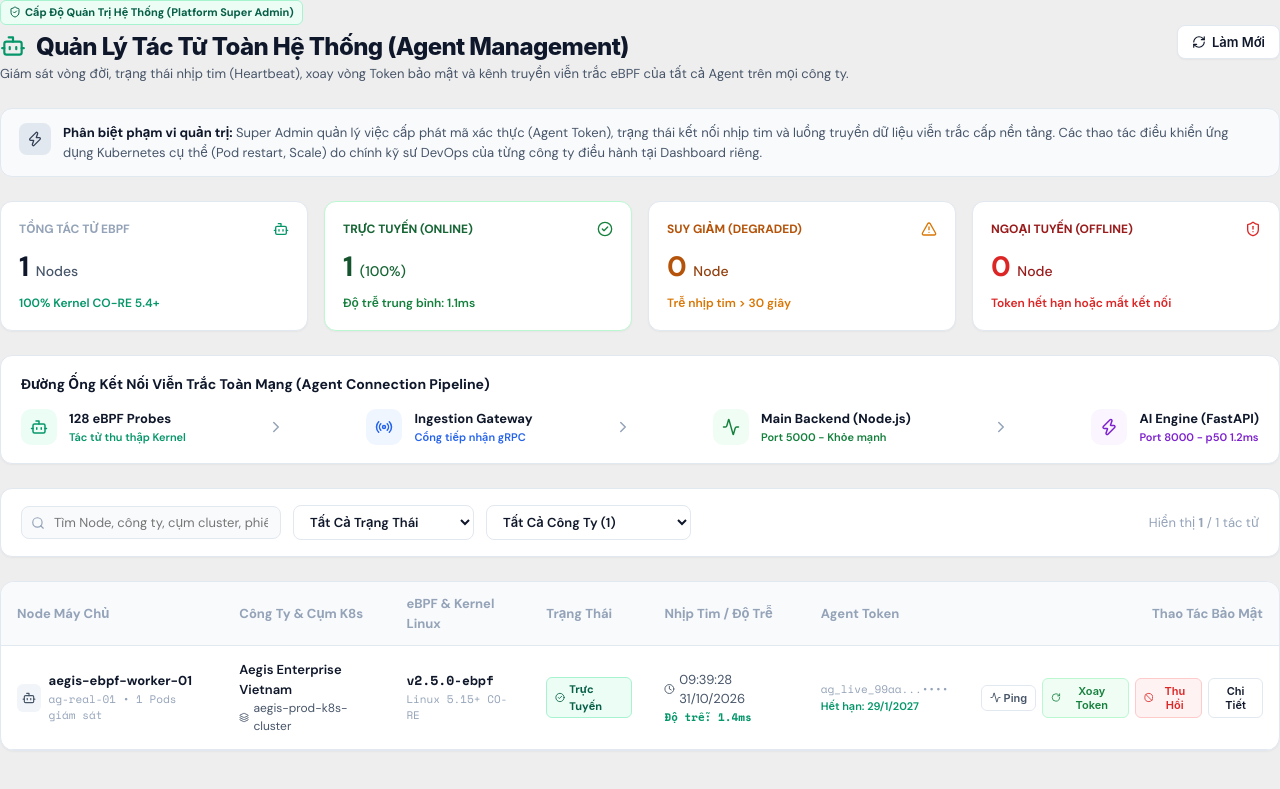
Test case: Admin UI, Cluster & Agent Connection Verification Suite › 3. AdminAgentManagementPage (/admin/agents) Real API Connection & Token Lifecycle › 3.1. Loads real agents from agentService.getAllAgentsAdmin and rotates token via API
Check: the text "aegis-ebpf-worker-01" is shown, box [49,672,207,691]
Check: the text "v2.5.0-ebpf" is shown, box [406,670,494,690]
// Open Rotate Token modal
Click the button "Xoay Token": (1085, 698) [1042,678,1129,718]
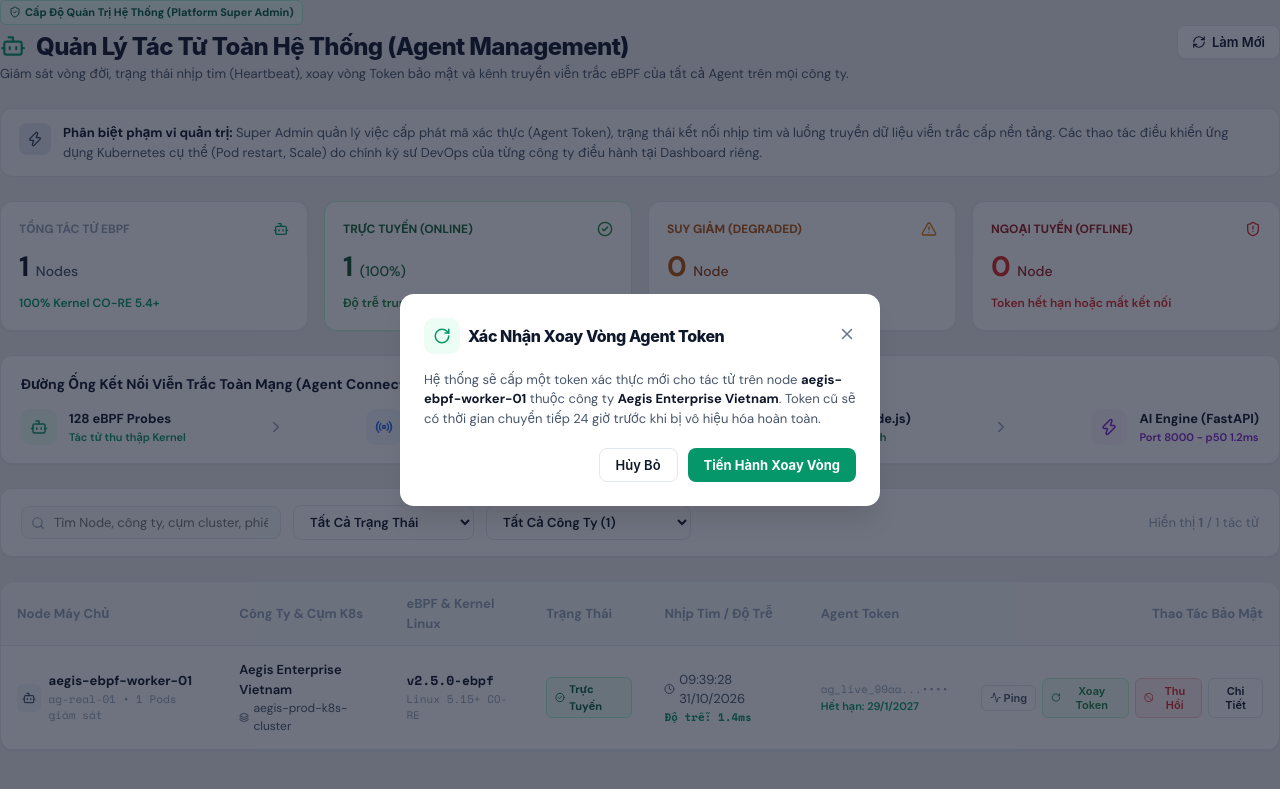
Check: the heading "Xác Nhận Xoay Vòng Agent Token" is shown, box [468,326,724,345]
Click the button "Tiến Hành Xoay Vòng": (772, 465) [688,448,856,482]
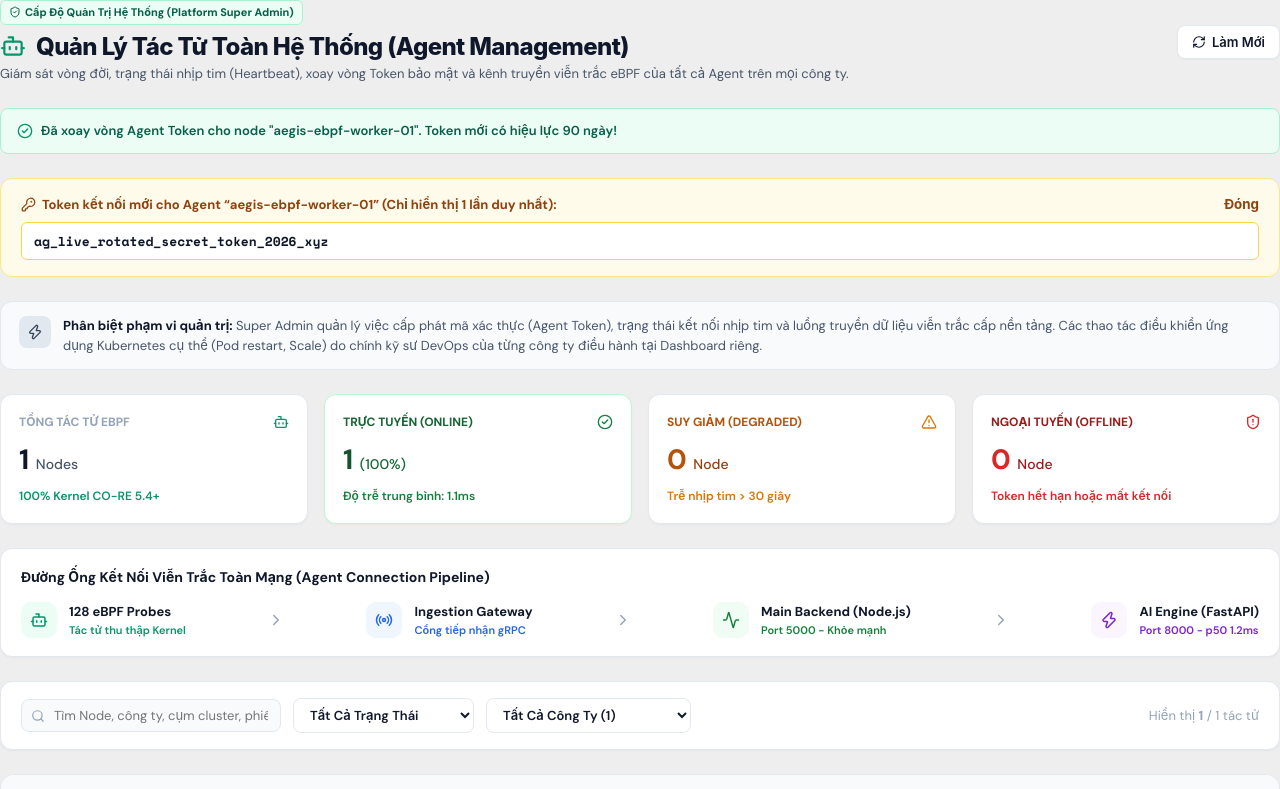
Check: the element with test id "admin-new-token-banner" is shown, box [0,178,1279,277]
Check: the field showing "ag_live_rotated_secret_token_2026_xyz" is shown, box [21,222,1259,260]
